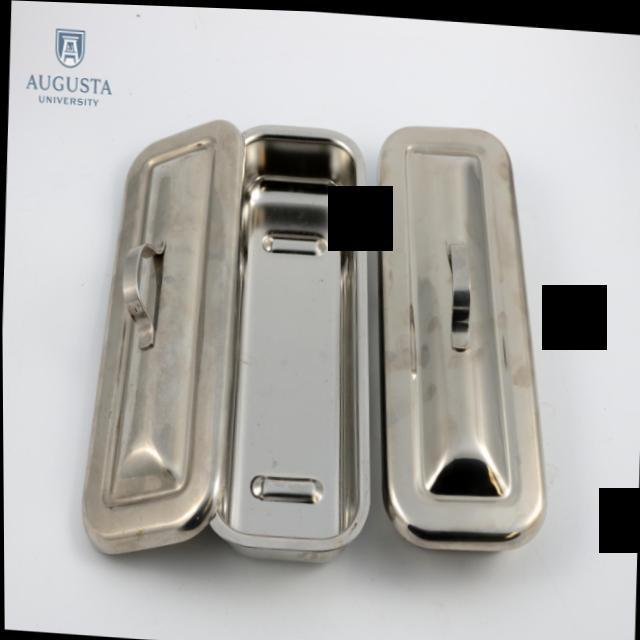Catheter Tray: (366, 101, 560, 584), (210, 88, 391, 562)
